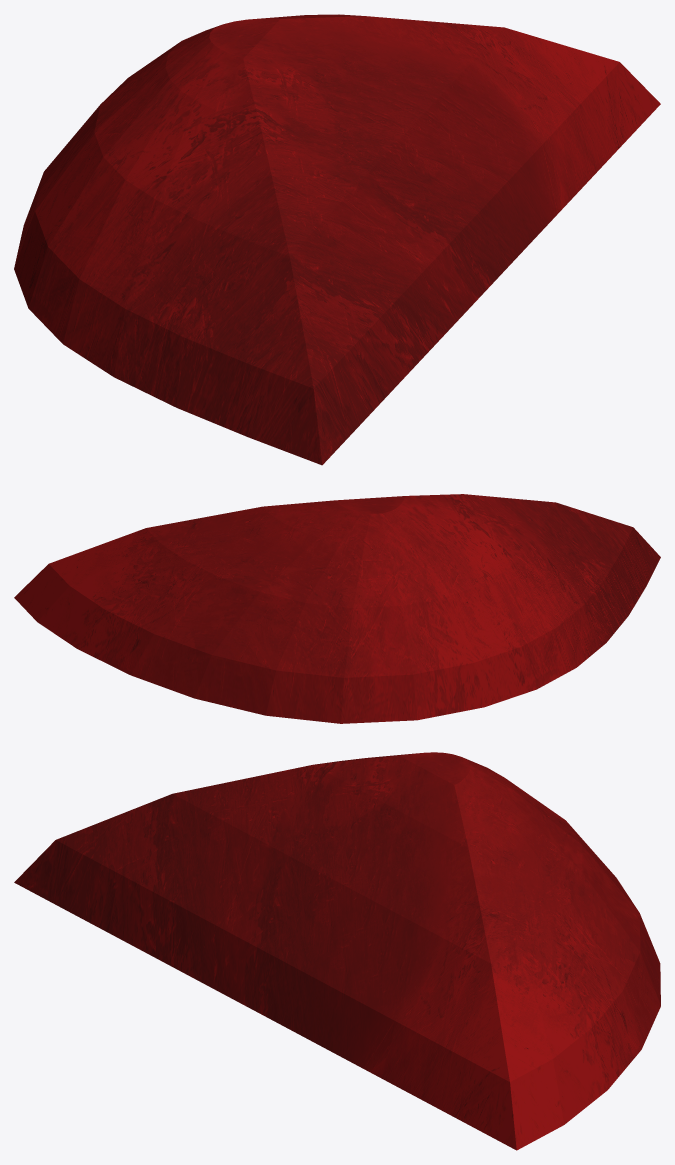
The model's file is rouge4.FBX.
3 views of the same model, one above another, from view 1: azimuth 30°, elevation 25°; view 2: azimuth 150°, elevation 25°; view 3: azimuth 270°, elevation 25° (orthographic). The views are drawn at different scales.
Visible parts, largest first — view 1: Ligne019; view 2: Ligne019; view 3: Ligne019.
Boxes of the visible parts, x1,y1,x2,y2 form: Ligne019: [14, 14, 660, 465]; Ligne019: [14, 494, 660, 723]; Ligne019: [14, 752, 660, 1150].
Size of the model in its own units: 8.43 by 2.46 by 7.73.
Materials: 1 (1 with a texture image).
